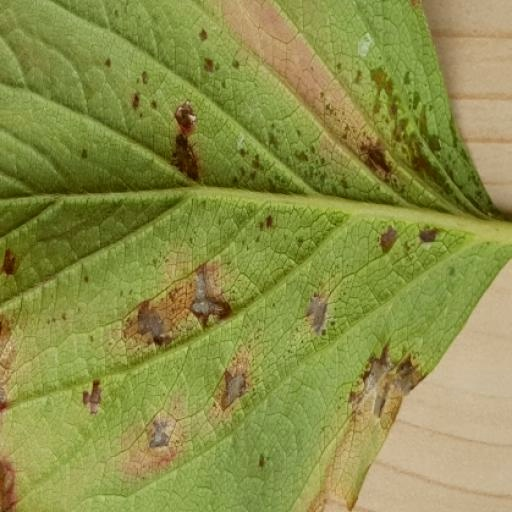Angular Leafspot: (4, 0, 511, 511)
